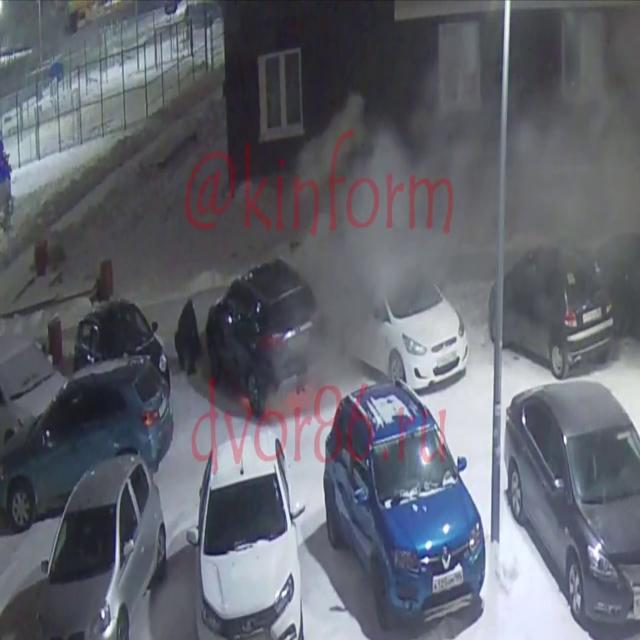Smoke: (284, 1, 640, 336)
